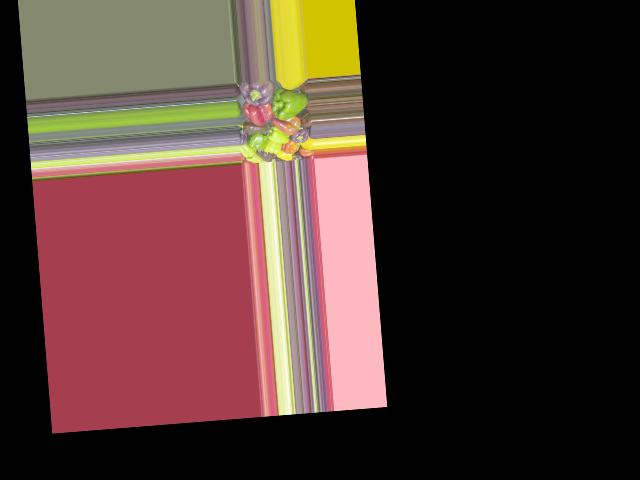bell_pepper: (290, 127, 311, 146)
